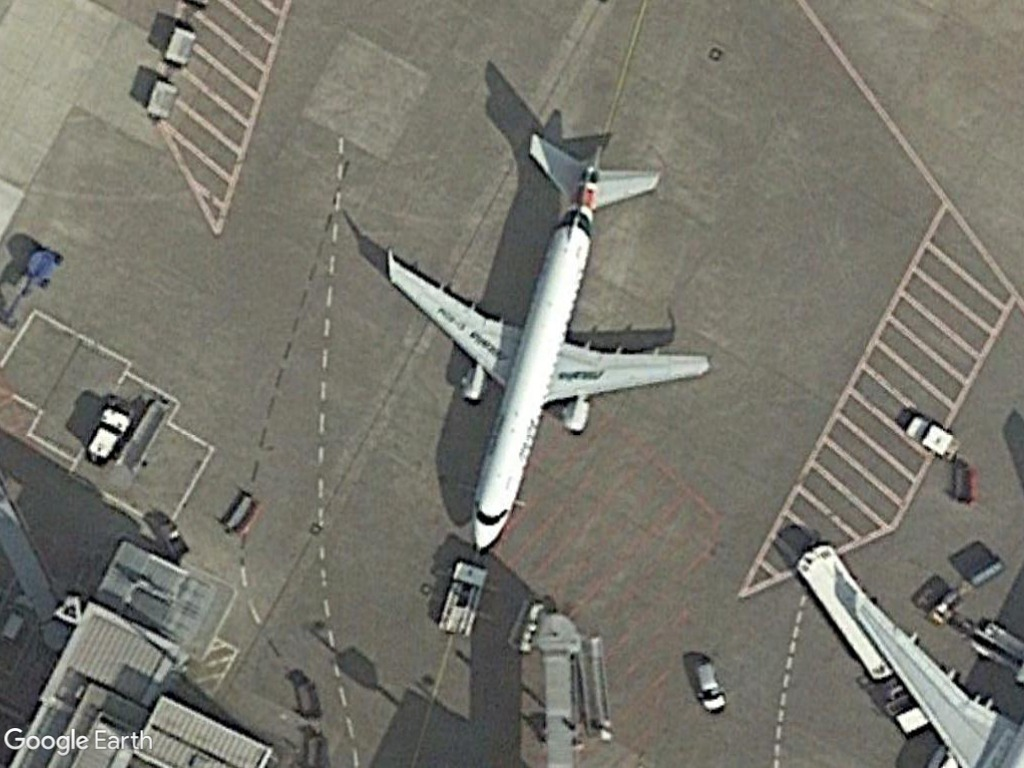airliner: (374, 121, 717, 566)
van: (689, 654, 727, 719)
